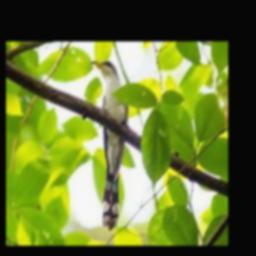Cuckoo: (90, 61, 128, 230)
